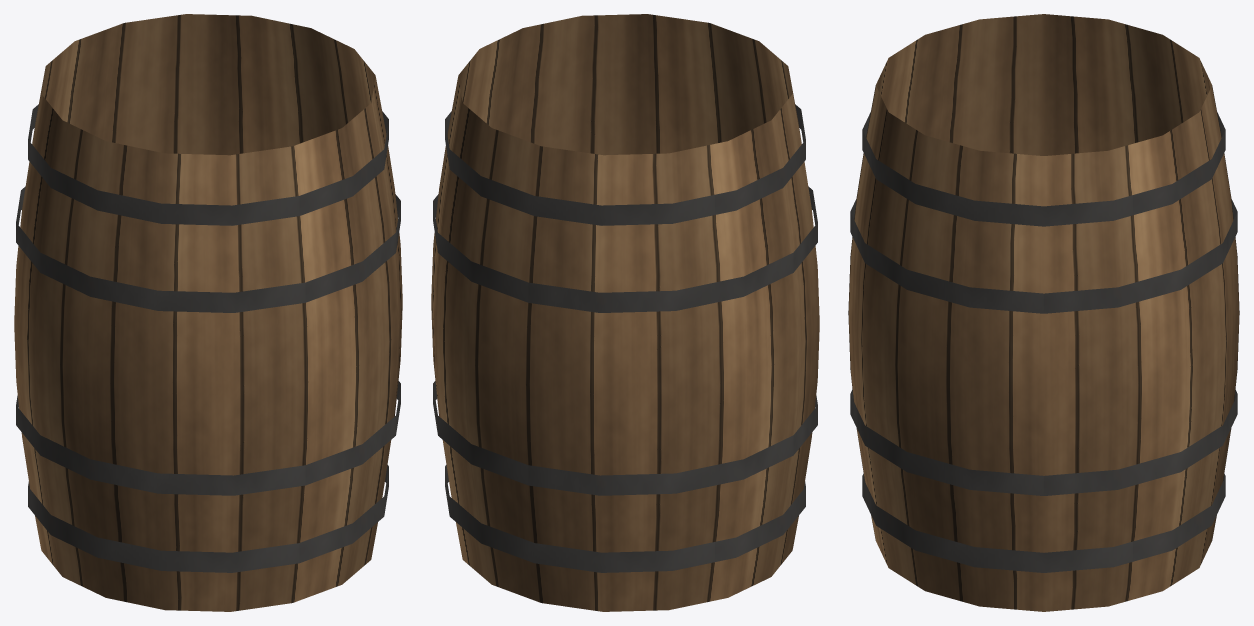
Rendered from Barrel.gltf.
The picture shows the model from 3 angles, left to right: view 1: azimuth 30°, elevation 25°; view 2: azimuth 150°, elevation 25°; view 3: azimuth 270°, elevation 25°; orthographic projection.
Visible parts, largest first — view 1: Barrel; view 2: Barrel; view 3: Barrel.
Part boxes in pixels (left/top/right/bottom): Barrel: left=14, top=14, right=402, bottom=611; Barrel: left=431, top=14, right=819, bottom=611; Barrel: left=848, top=14, right=1239, bottom=611.
Size of the model in its own units: 0.7 by 0.9 by 0.7.
Materials: 2 (2 with a texture image).
